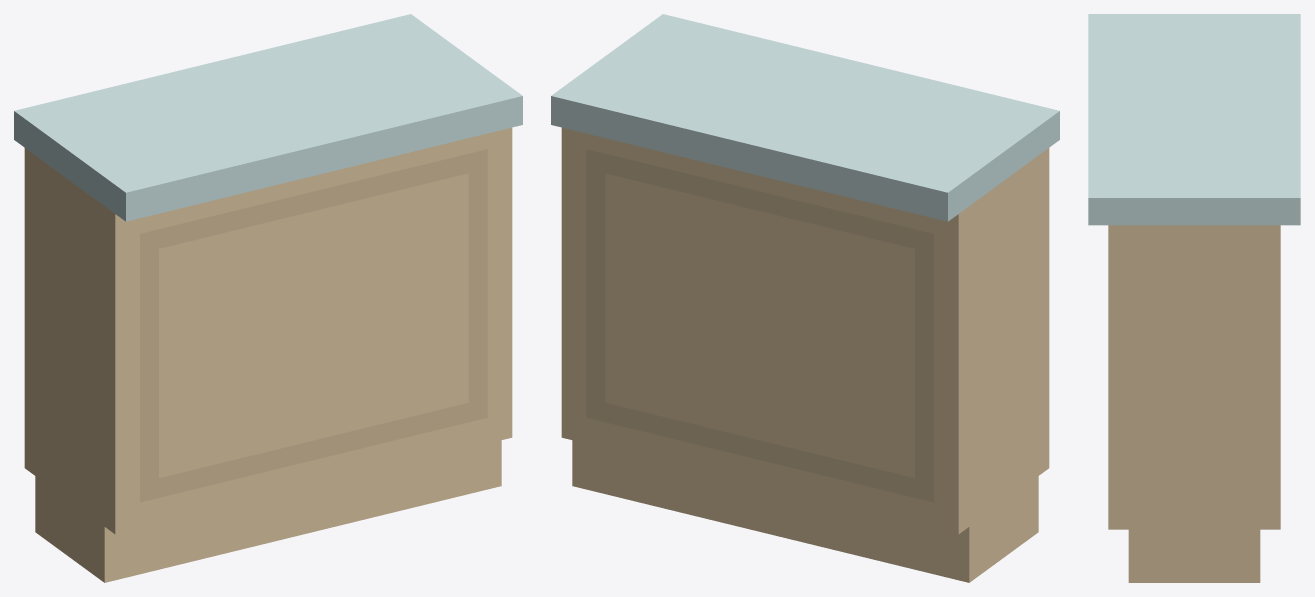
File: kitchenBar.glb
3 renders of one model, left to right at view 1: azimuth 30°, elevation 25°; view 2: azimuth 150°, elevation 25°; view 3: azimuth 270°, elevation 25°, orthographic. The views are drawn at different scales.
Visible parts, largest first — view 1: kitchenBar; view 2: kitchenBar; view 3: kitchenBar.
Part boxes in pixels (<box>): kitchenBar: <box>14,14,522,582</box>; kitchenBar: <box>551,14,1059,582</box>; kitchenBar: <box>1088,14,1300,582</box>.
Size of the model in its own units: 4.3 by 4.2 by 2.1.
